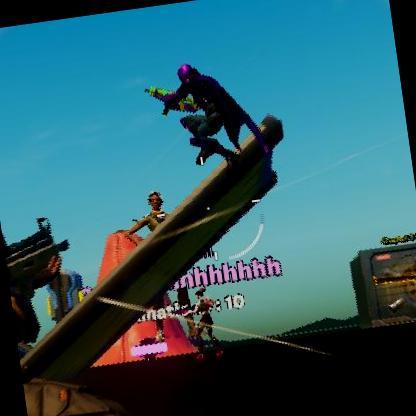person: (164, 55, 232, 160), (191, 292, 216, 349)
